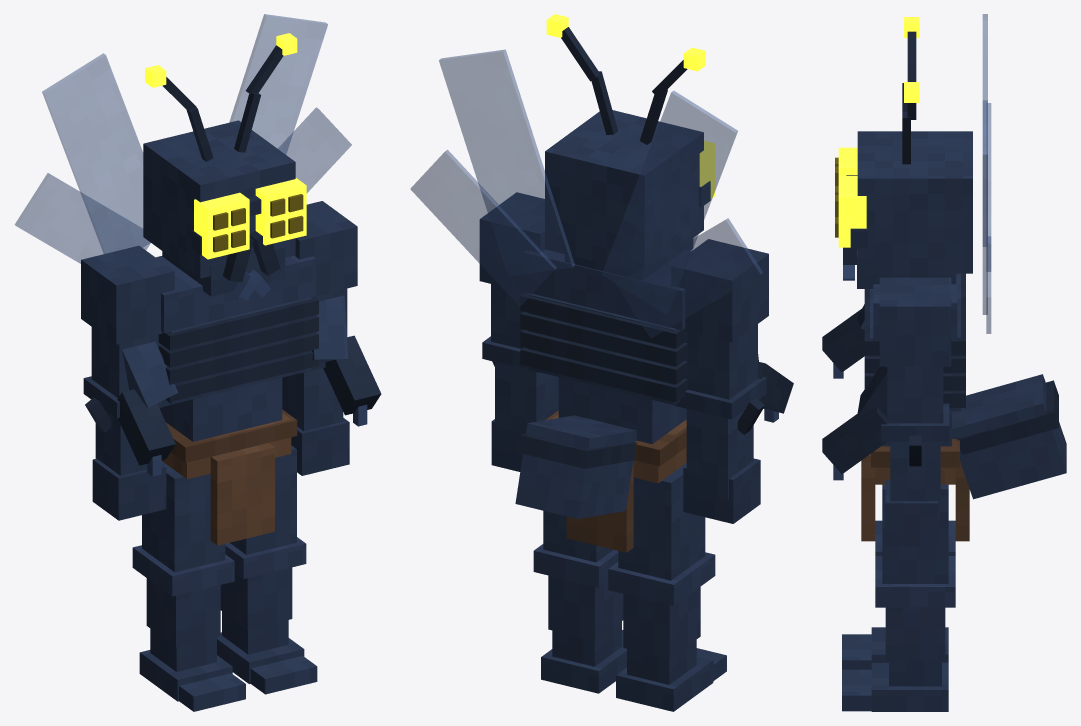
File: insectoid_base_v3.glb
3 views of the same model, side by side, from view 1: azimuth 30°, elevation 25°; view 2: azimuth 150°, elevation 25°; view 3: azimuth 270°, elevation 25° (orthographic). The views are drawn at different scales.
Parts seen in each view (by area): view 1: Torso, Head, LegR, ArmR, LegL, ArmL; view 2: Torso, Head, ArmR, LegR, ArmL, LegL; view 3: Torso, Head, ArmL, LegL, LegR.
Boxes of the visible parts, x1,y1,x2,y2 form: Torso: [15, 14, 381, 545]; Head: [143, 33, 306, 300]; LegR: [132, 461, 245, 711]; ArmR: [81, 245, 174, 520]; LegL: [217, 445, 317, 694]; ArmL: [282, 201, 357, 475]; Torso: [410, 49, 793, 552]; Head: [545, 14, 715, 280]; ArmR: [671, 239, 768, 523]; LegR: [608, 463, 726, 711]; ArmL: [479, 192, 558, 471]; LegL: [533, 511, 626, 693]; Torso: [822, 14, 1066, 541]; Head: [835, 17, 972, 288]; ArmL: [879, 277, 951, 546]; LegL: [842, 484, 955, 711]; LegR: [842, 520, 955, 669].
Size of the model in its own units: 1.12 by 1.98 by 0.699.
Materials: 22 (22 with a texture image).
